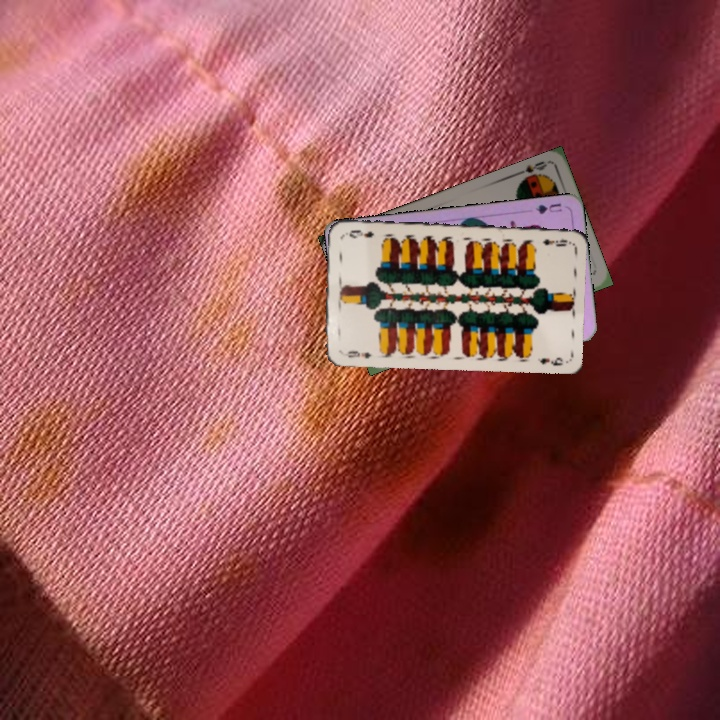E9: (338, 347, 374, 361), (539, 234, 571, 249)
GU: (532, 199, 564, 217)
SO: (511, 157, 550, 186)
